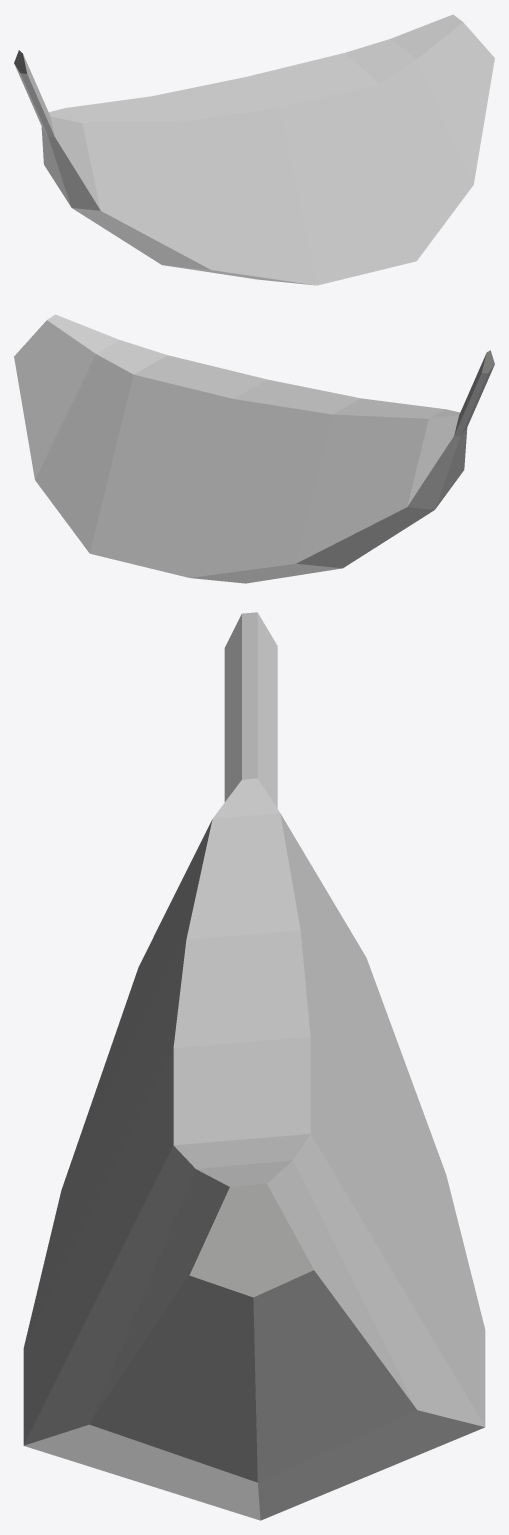
The model's file is garlic02.gltf.
3 views of the same model, one above another, from view 1: azimuth 30°, elevation 25°; view 2: azimuth 150°, elevation 25°; view 3: azimuth 270°, elevation 25° (orthographic). The views are drawn at different scales.
Visible parts, largest first — view 1: Cylinder.001; view 2: Cylinder.001; view 3: Cylinder.001.
Part boxes in pixels (<box>): Cylinder.001: <box>14,14,494,285</box>; Cylinder.001: <box>14,314,494,583</box>; Cylinder.001: <box>23,612,485,1520</box>.
Bounding box in the file's own units: 0.0284 × 0.0169 × 0.0122.
1 material, 1 textured.
